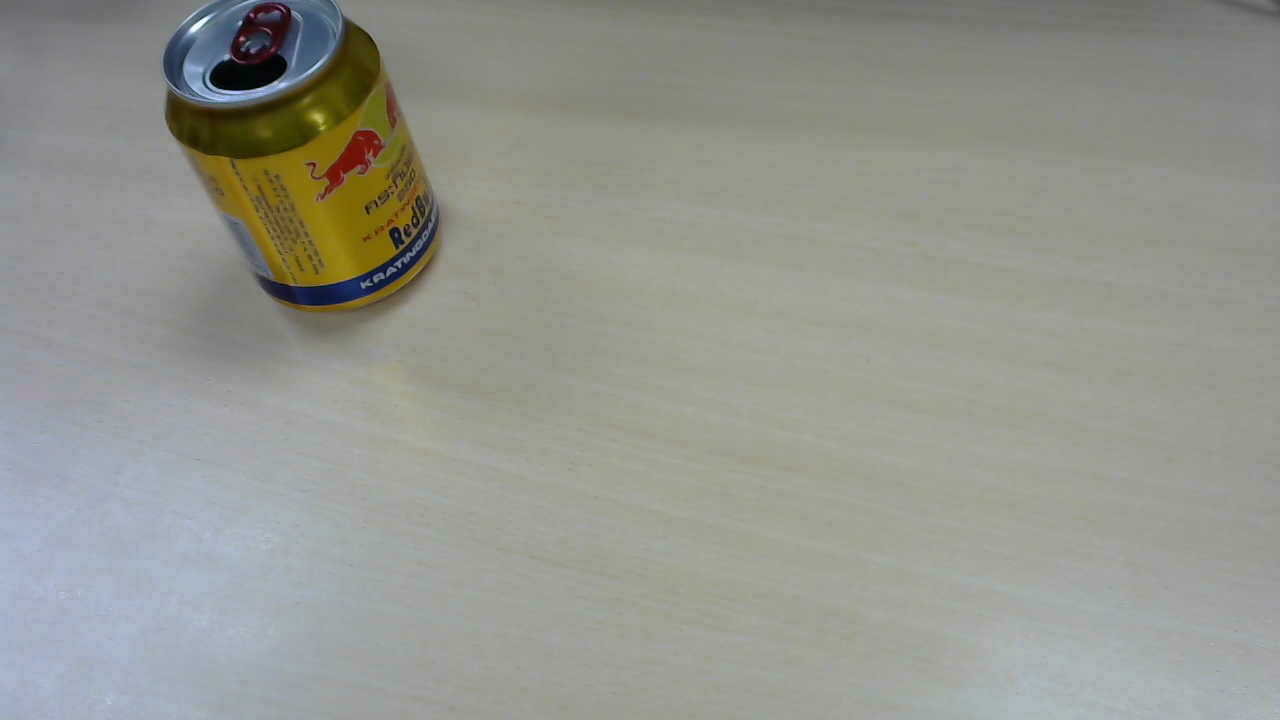Red_Bull: (167, 7, 448, 320)
